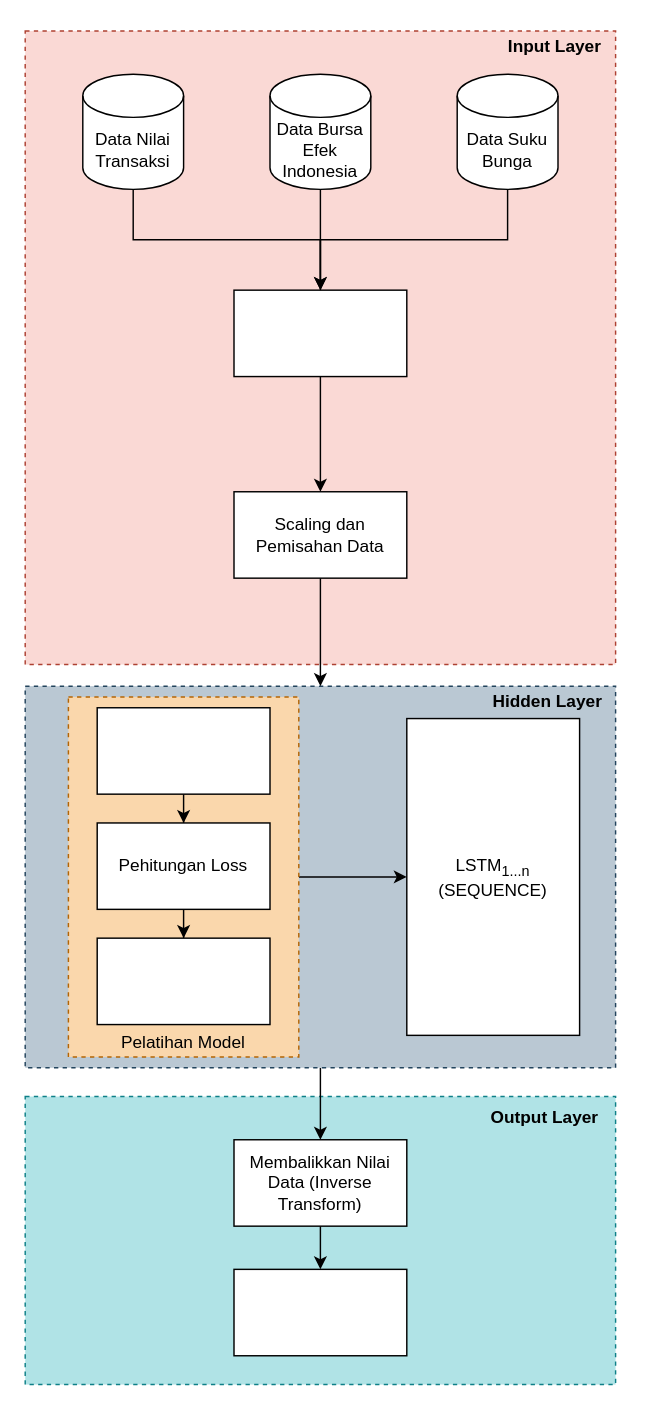
Some shapes in this 660 by 1410 pixel diagram are drawn without their labels. The shapes that lost their labels are listed below. From the top down, each one's box as (x1, y1, x2, y2) in pixels, then its label:
(233, 289, 407, 377): Integrasi Data
(96, 706, 270, 794): Optimisasi Adam
(96, 937, 270, 1025): Optimized Tuning
(233, 1268, 407, 1356): Prediksi Model
